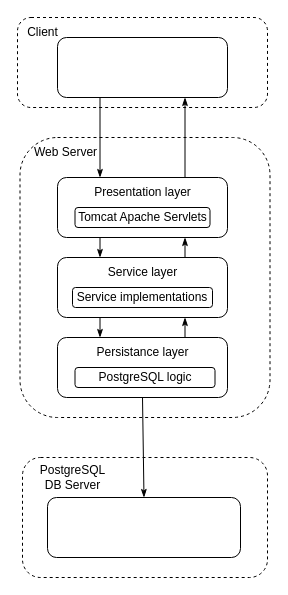
The diagram is 288 pixels wide and 595 high, and some of its shapes have lost their labels. Here are the shapes that lost their labels. From the top down, the box of each, then its label:
(56, 36, 228, 98): Web Browser
(46, 496, 240, 558): PostgreSQL Database
